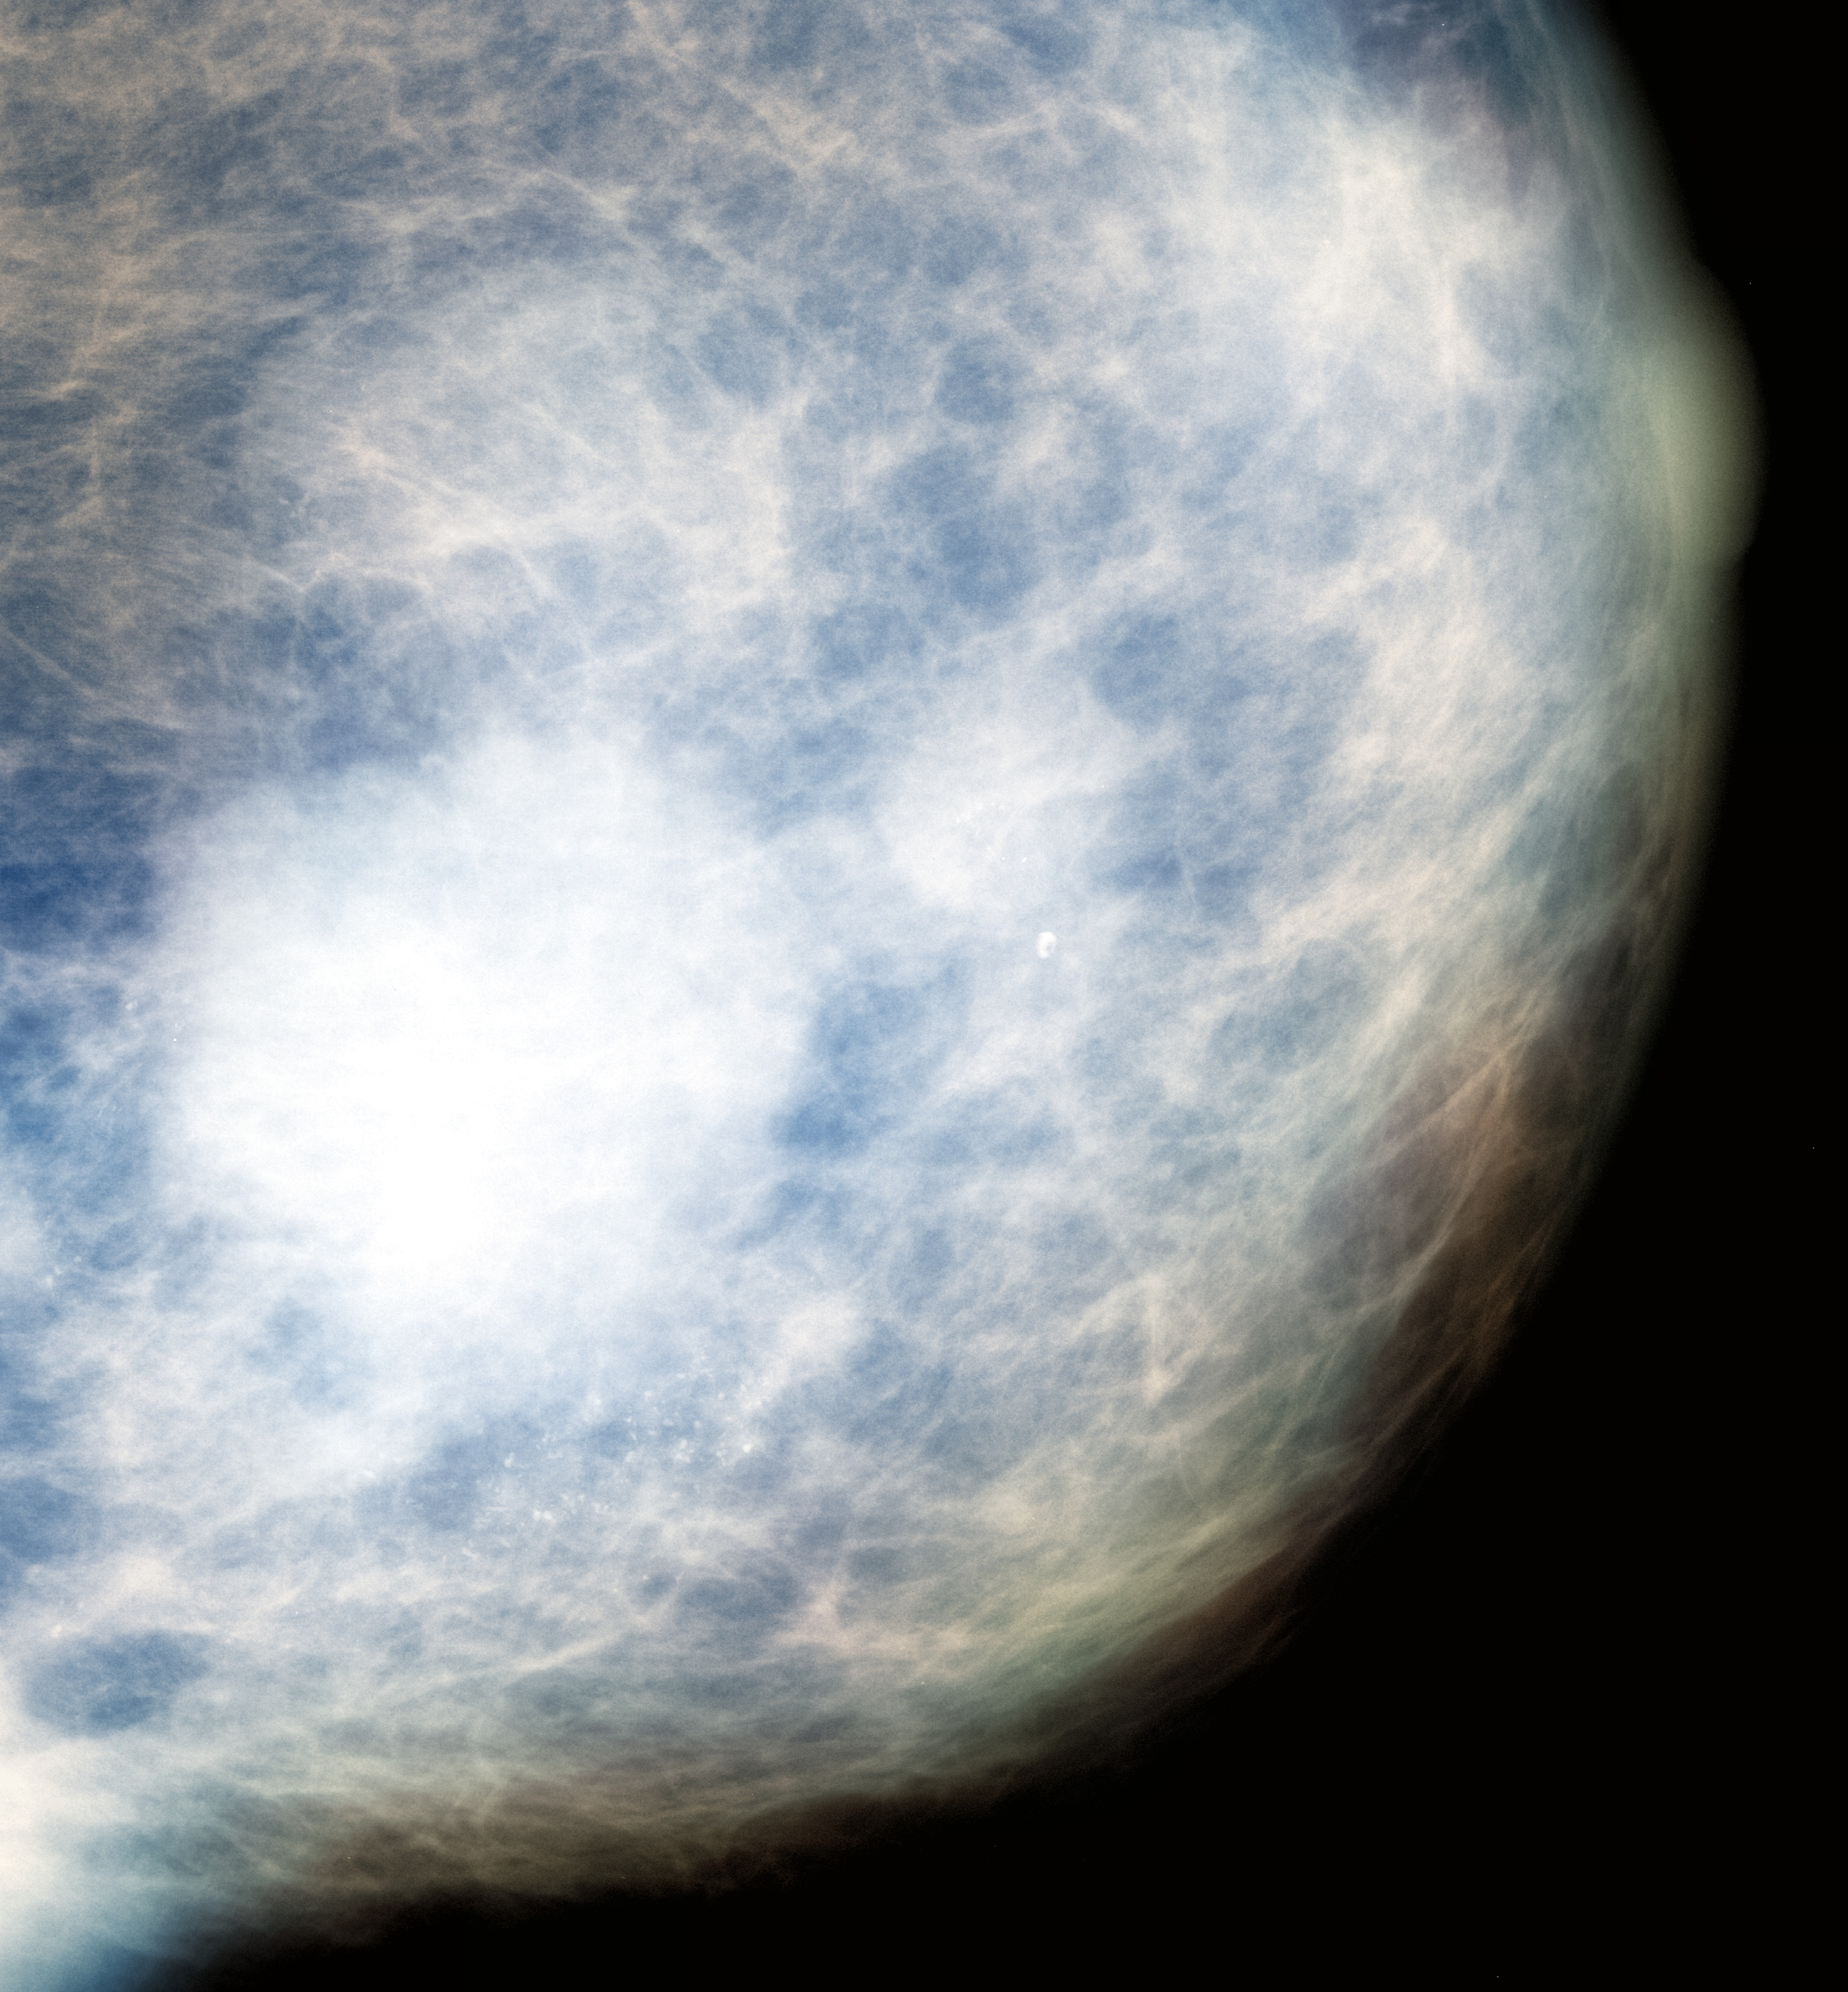tumor: (0, 0, 1848, 1992)
